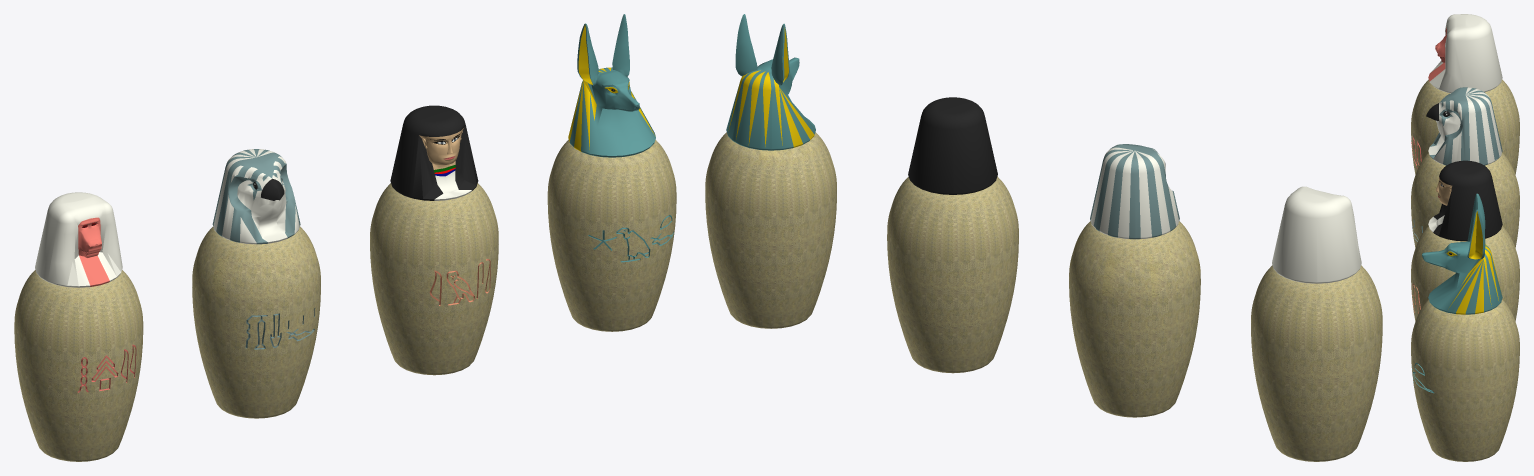
The model's file is Kanopen.fbx.
3 renders of one model, left to right at view 1: azimuth 30°, elevation 25°; view 2: azimuth 150°, elevation 25°; view 3: azimuth 270°, elevation 25°, orthographic. The views are drawn at different scales.
Visible parts, largest first — view 1: Model, Group4, Group3, Group1, Group2; view 2: Model, Group1, Group4, Group3, Group2; view 3: Model, Group4, Group2, Group3, Group1.
Boxes of the visible parts, x1,y1,x2,y2 form: Model: (14,139,676,461); Group4: (568,14,655,157); Group3: (35,192,122,287); Group1: (390,105,478,200); Group2: (212,149,300,244); Model: (705,132,1382,461); Group1: (908,97,997,194); Group4: (726,14,815,150); Group3: (1272,186,1361,283); Group2: (1090,144,1179,239); Model: (1411,79,1519,461); Group4: (1422,193,1502,314); Group2: (1426,87,1502,165); Group3: (1428,14,1502,93); Group1: (1428,160,1502,241).
Size of the model in its own units: 10.16 by 4.4 by 1.76.
